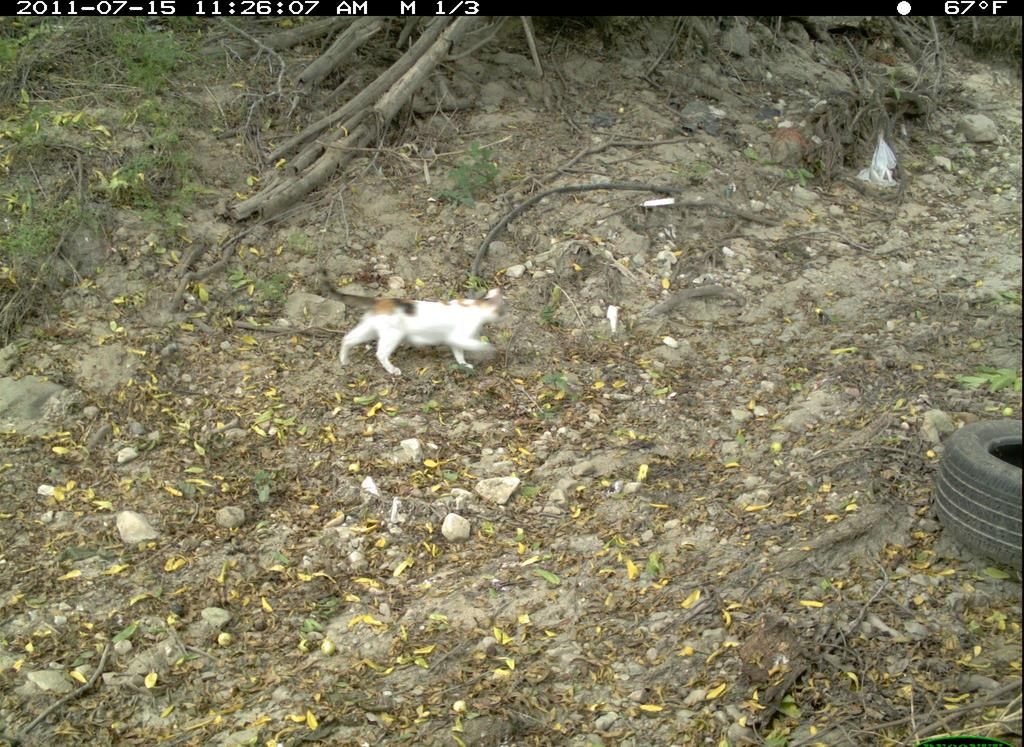cat: (335, 286, 511, 379)
